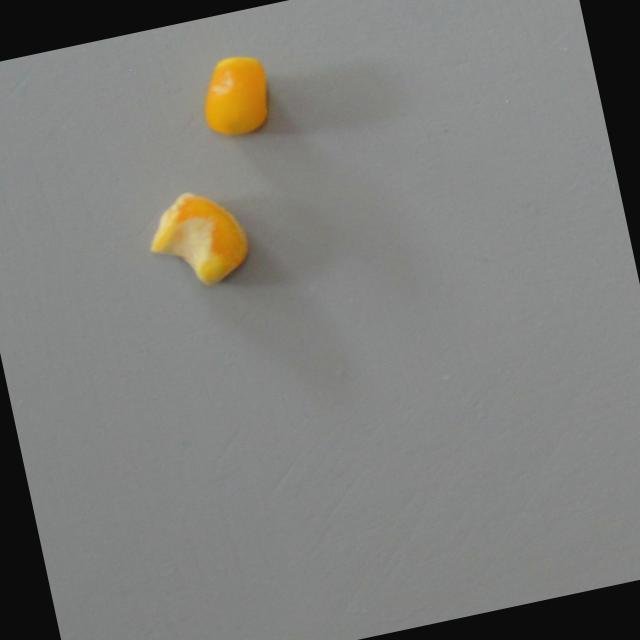no_canjicado: (192, 48, 278, 145)
pelicula: (141, 181, 257, 297)
